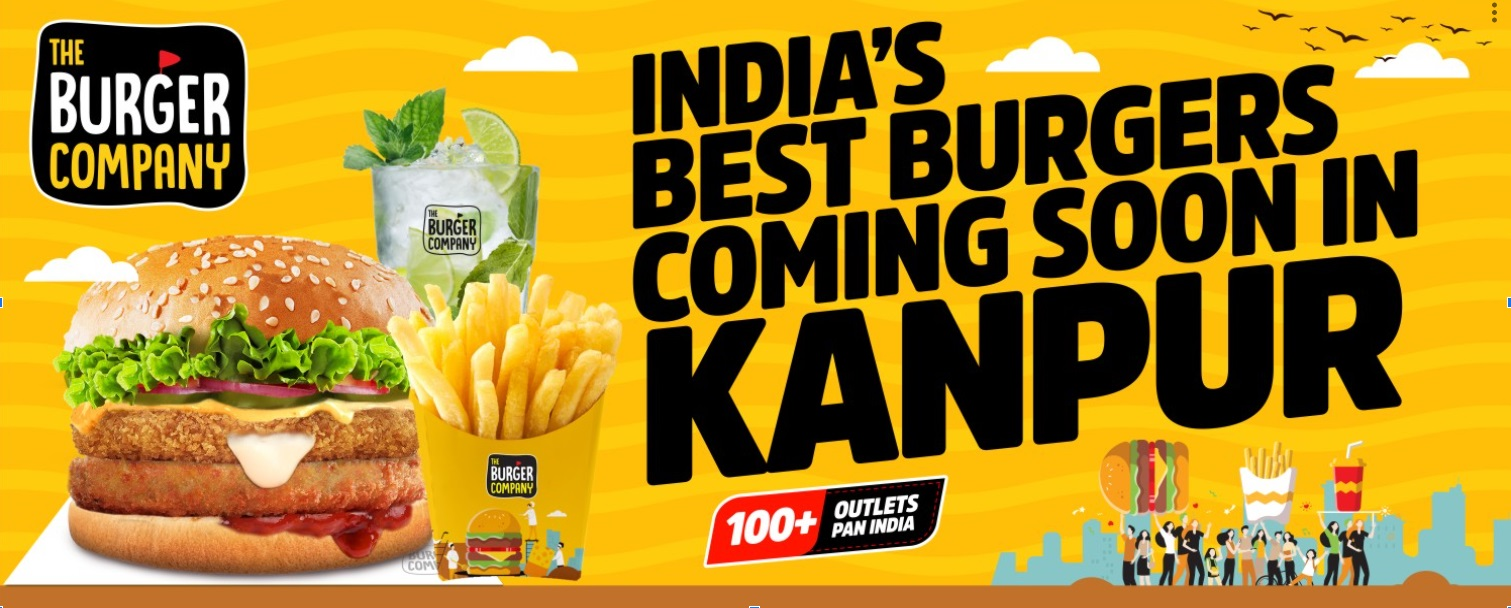Headline: (620, 25, 1427, 452)
Product: (77, 194, 631, 587)
logo: (40, 12, 239, 202)
